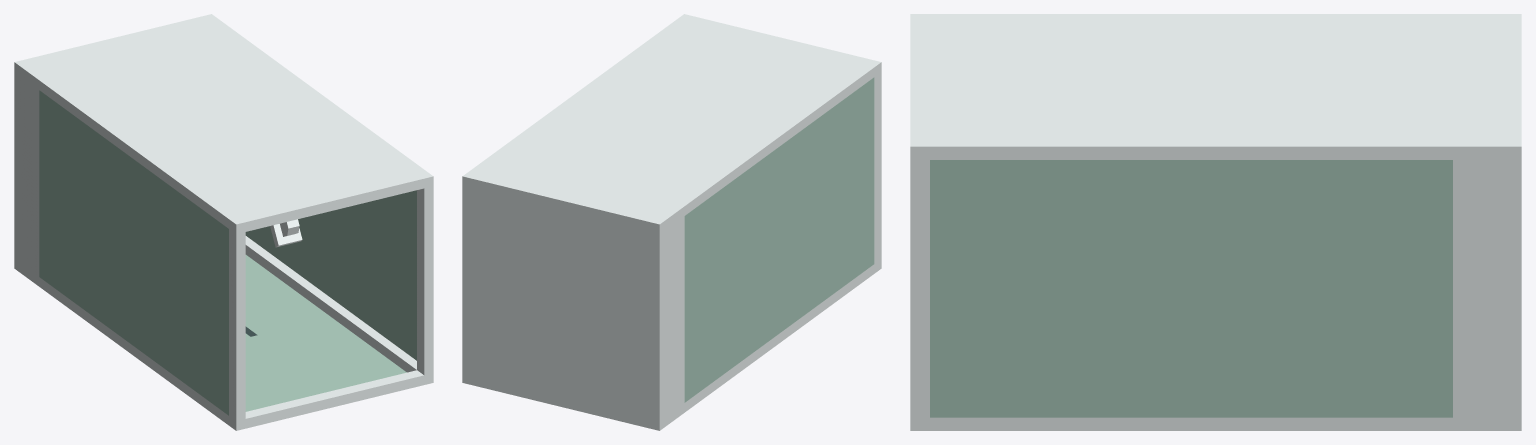
The model's file is shower-corner.obj.
3 views of the same model, side by side, from view 1: azimuth 30°, elevation 25°; view 2: azimuth 150°, elevation 25°; view 3: azimuth 270°, elevation 25° (orthographic). The views are drawn at different scales.
Parts seen in each view (by area): view 1: shower-corner; view 2: shower-corner; view 3: shower-corner.
Boxes of the visible parts, x1=… form: shower-corner: x1=14, y1=14, x2=433, y2=430; shower-corner: x1=462, y1=14, x2=881, y2=430; shower-corner: x1=910, y1=14, x2=1521, y2=430.
Bounding box in the file's own units: 43.13 × 44.67 × 84.
